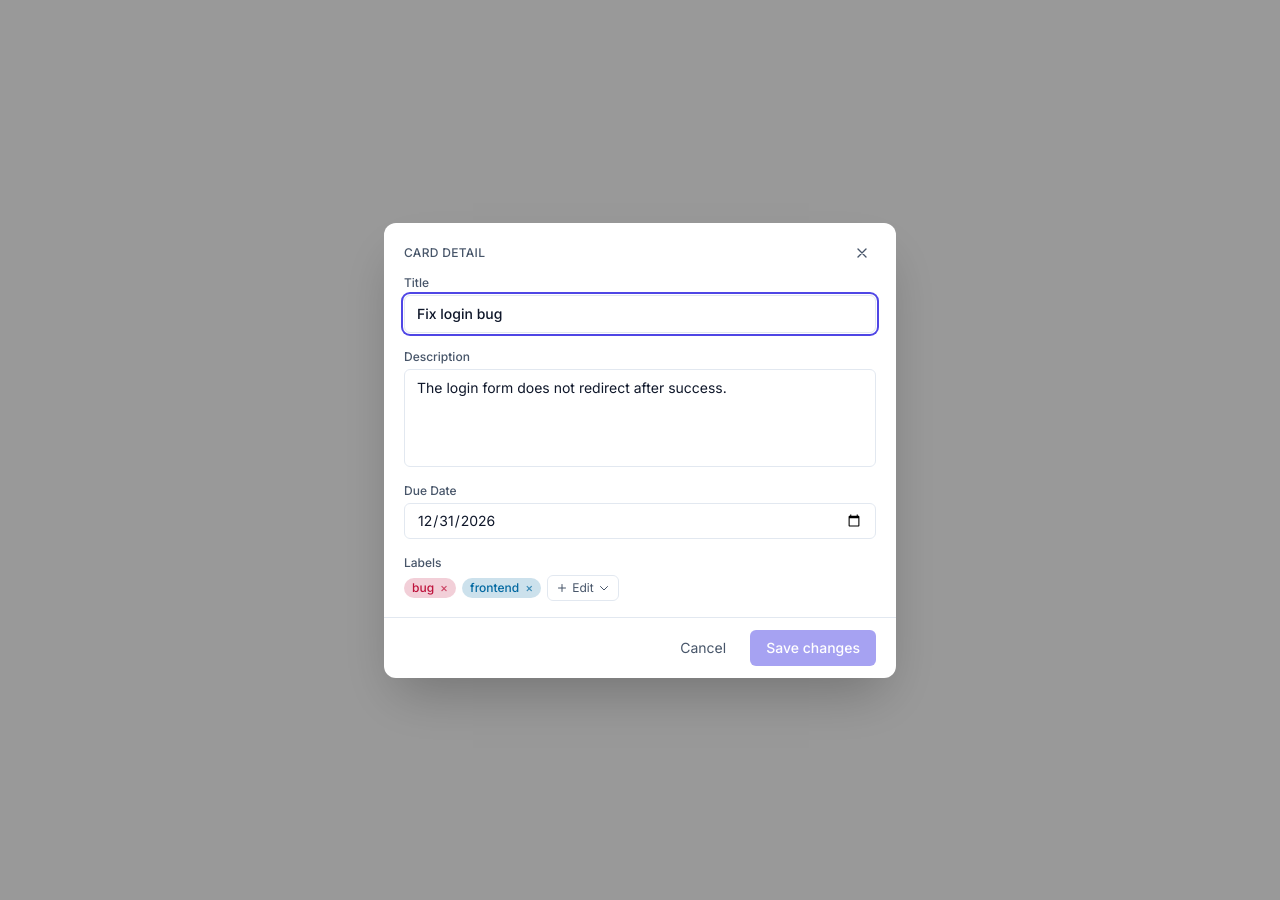
CardDetailModal › Save button is re-enabled after a failed save (retry path)
Replace the text in the field showing "Fix login bug" with "New title" at (640, 314), box [404,294,876,332]
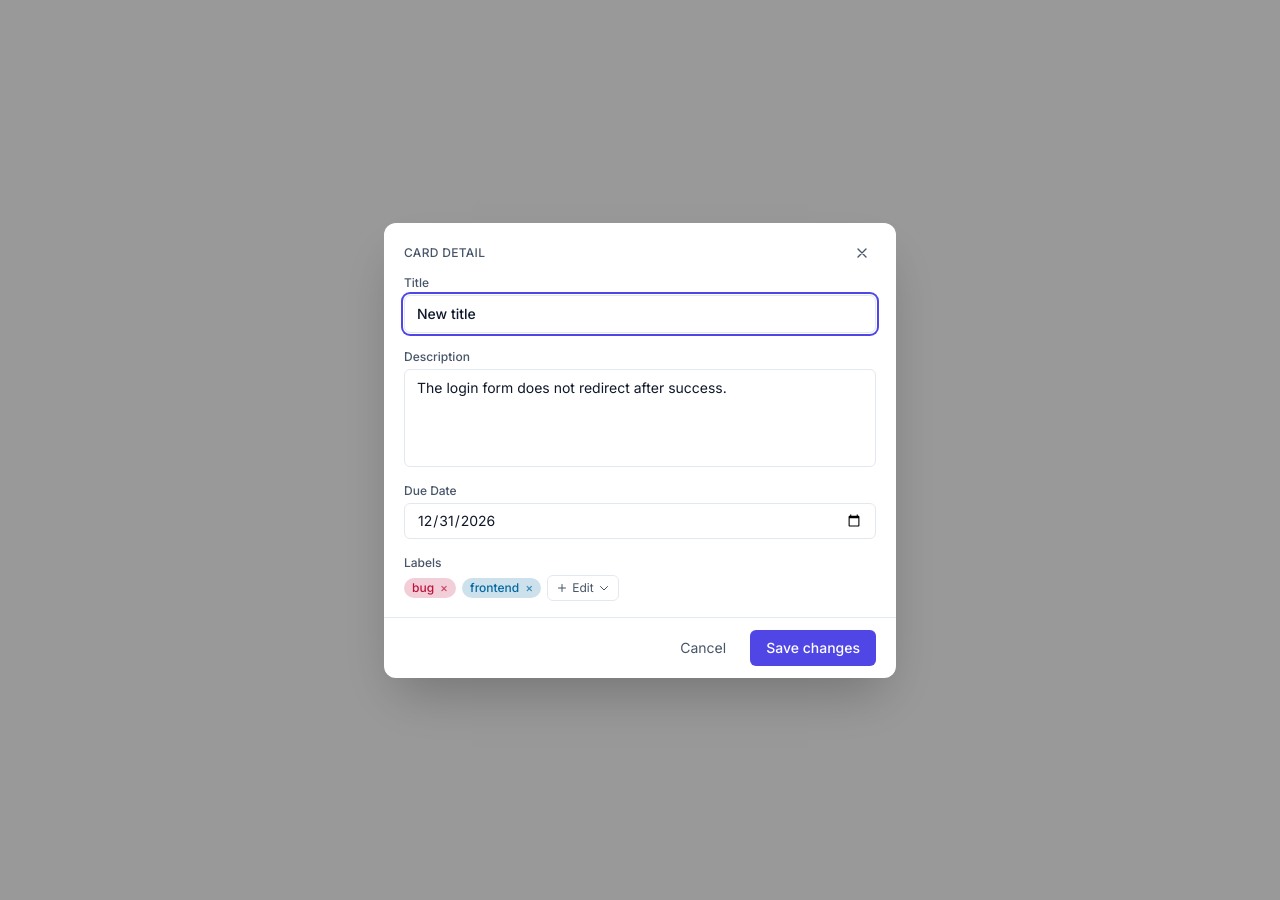
Click the button "Save changes".
click(813, 648)  # box [750,630,876,666]
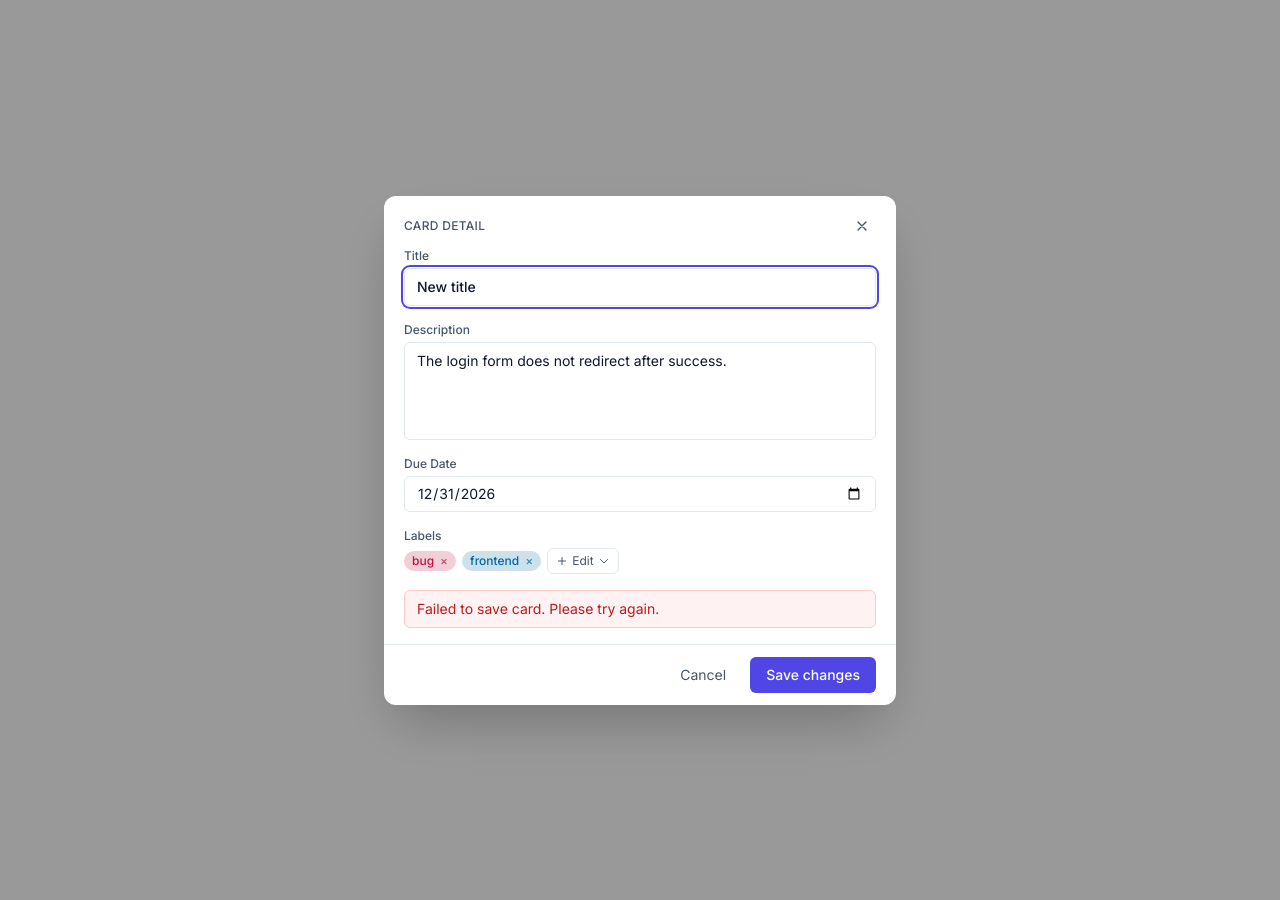
Now the button "Save changes" is enabled, box [750,656,876,692]
Now the message "Failed to save card. Please try again." is shown, box [404,590,876,628]
